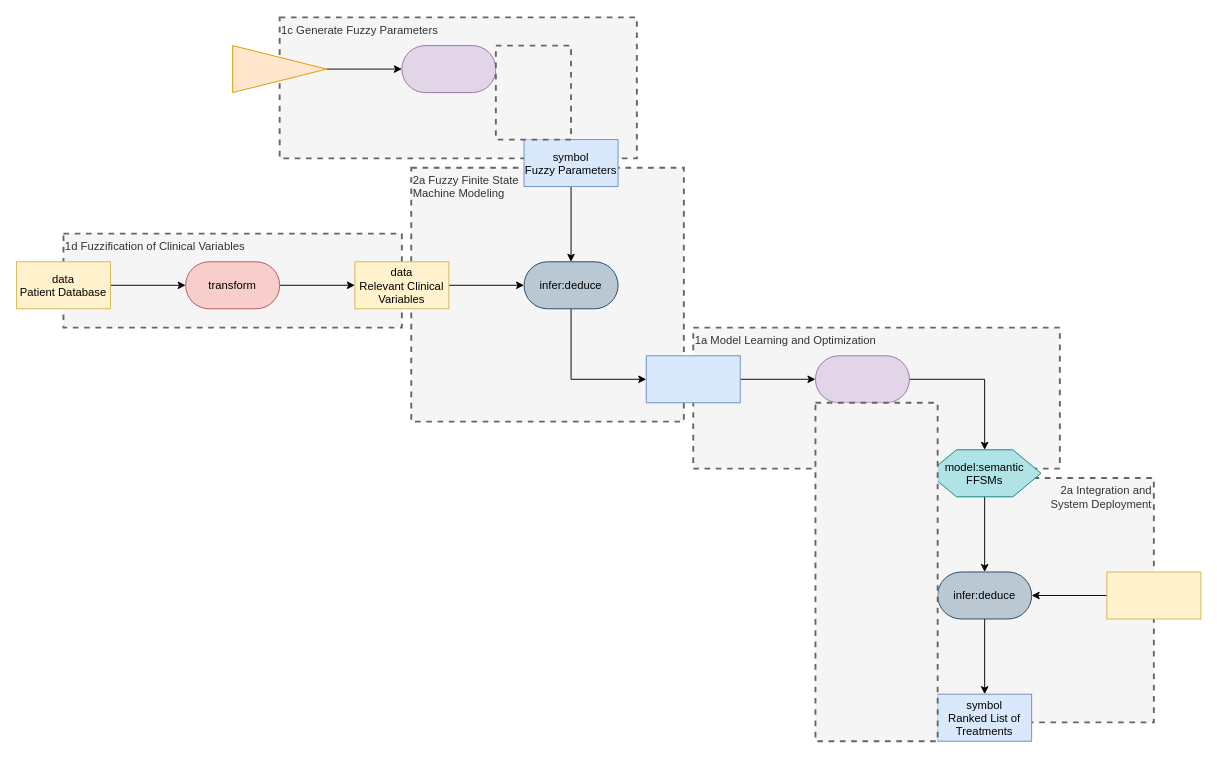
Some shapes in this 1217 by 758 pixel diagram are drawn without their labels. Here are the shapes that lost their labels. From the top down, the centre of each, then its label:
the point at 279,69: actor Experts
the point at 448,69: generate:engineer
the point at 533,92: error -- | v
the point at 692,379: symbol Fuzzy Values Clinical Variables
the point at 862,379: generate:train
the point at 876,571: error ^ | --
the point at 1153,595: data Patient Data
